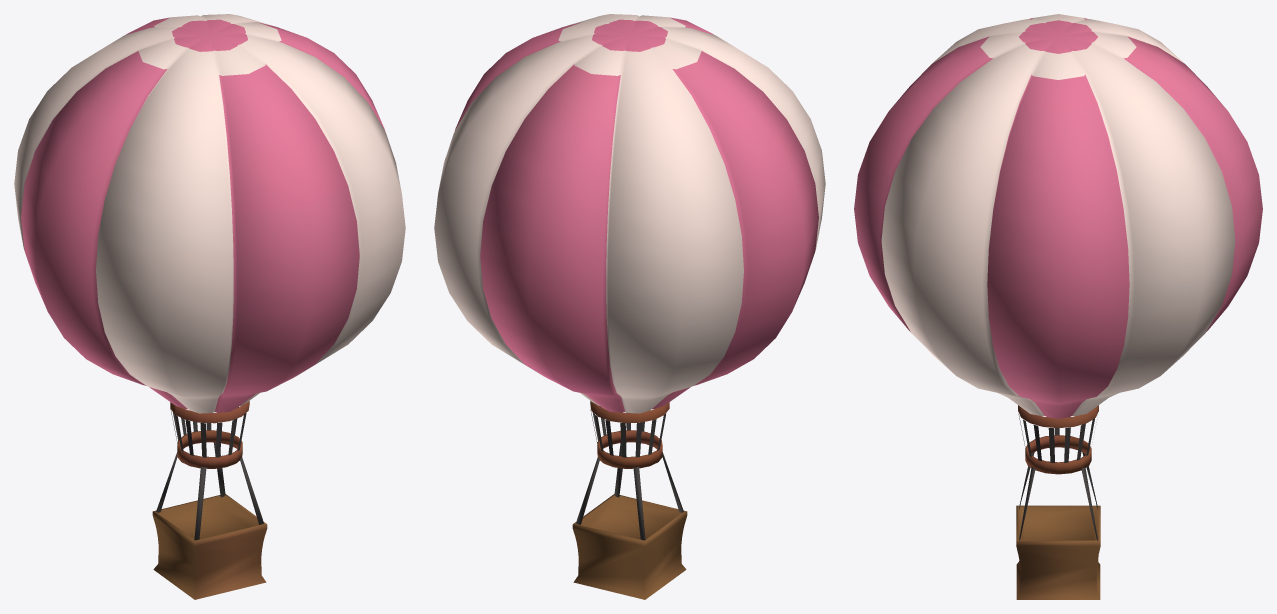
The model's file is khinhkhicau1.fbx.
The picture shows the model from 3 angles, left to right: view 1: azimuth 30°, elevation 25°; view 2: azimuth 150°, elevation 25°; view 3: azimuth 270°, elevation 25°; orthographic projection.
Parts seen in each view (by area): view 1: Sphere.003_Material.007_0.001; view 2: Sphere.003_Material.007_0.001; view 3: Sphere.003_Material.007_0.001.
Boxes of the visible parts, x1=… form: Sphere.003_Material.007_0.001: x1=14, y1=14, x2=405, y2=599; Sphere.003_Material.007_0.001: x1=434, y1=14, x2=825, y2=599; Sphere.003_Material.007_0.001: x1=854, y1=14, x2=1262, y2=599.
Bounding box in the file's own units: 212 × 311 × 212.
